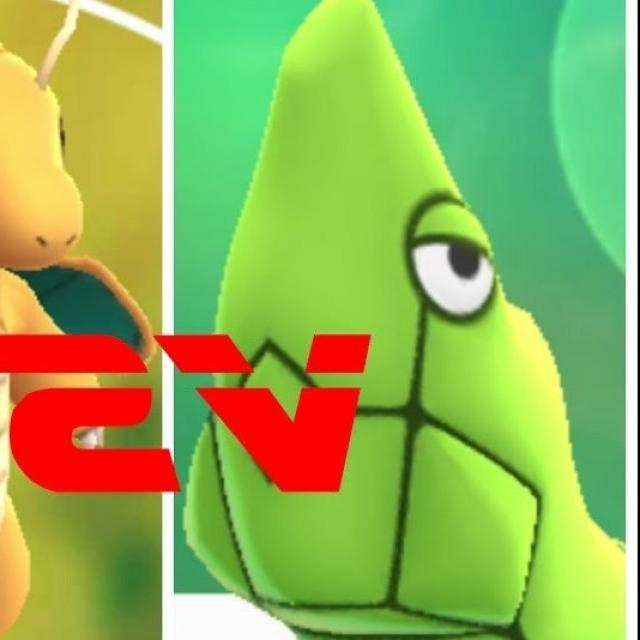Metapod: (181, 0, 564, 640)
